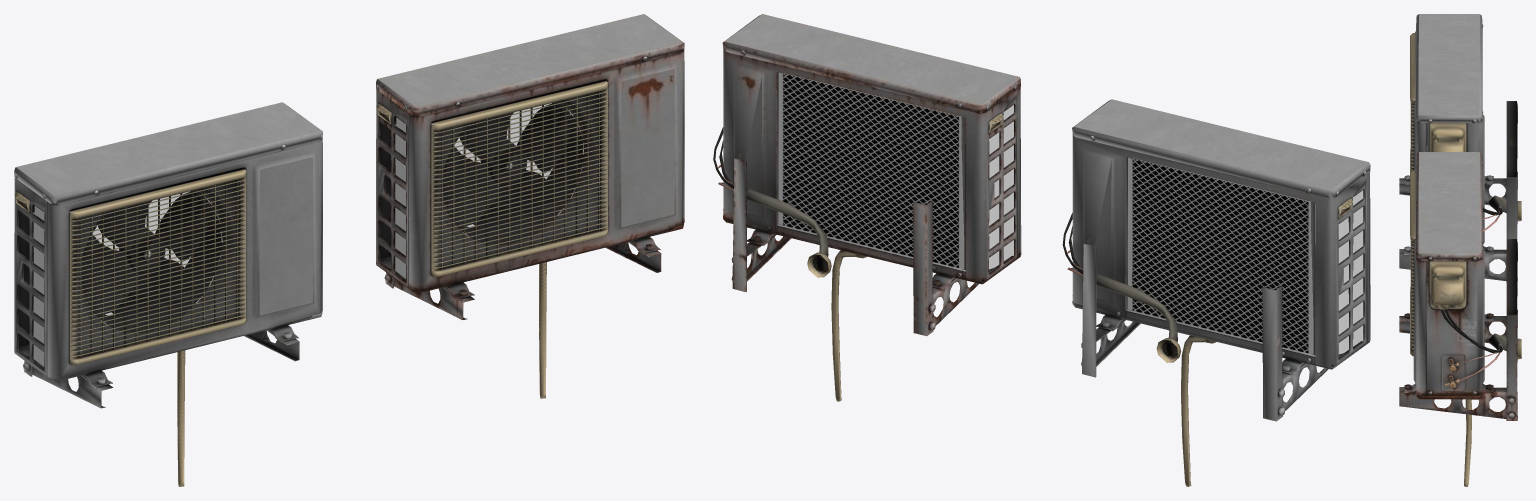
Rendered from exterior_aircon_unit.glb.
3 renders of one model, left to right at view 1: azimuth 30°, elevation 25°; view 2: azimuth 150°, elevation 25°; view 3: azimuth 270°, elevation 25°, orthographic. The views are drawn at different scales.
Visible parts, largest first — view 1: exterior_aircon_unit, exterior_aircon_unit_rusted; view 2: exterior_aircon_unit, exterior_aircon_unit_rusted; view 3: exterior_aircon_unit_rusted, exterior_aircon_unit.
Boxes of the visible parts, box(x1,y1,x2,y2) form: exterior_aircon_unit: box(14, 102, 322, 486); exterior_aircon_unit_rusted: box(376, 14, 684, 398); exterior_aircon_unit: box(1062, 99, 1370, 486); exterior_aircon_unit_rusted: box(713, 14, 1021, 401); exterior_aircon_unit_rusted: box(1399, 152, 1521, 486); exterior_aircon_unit: box(1399, 14, 1521, 282).
Bounding box in the file's own units: 1.8 × 0.928 × 0.3742.
Materials: 4 (4 with a texture image).
